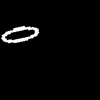chain: (1, 26, 38, 42)
